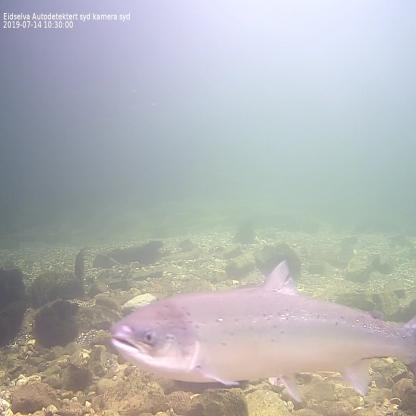salmon: (108, 256, 416, 404)
